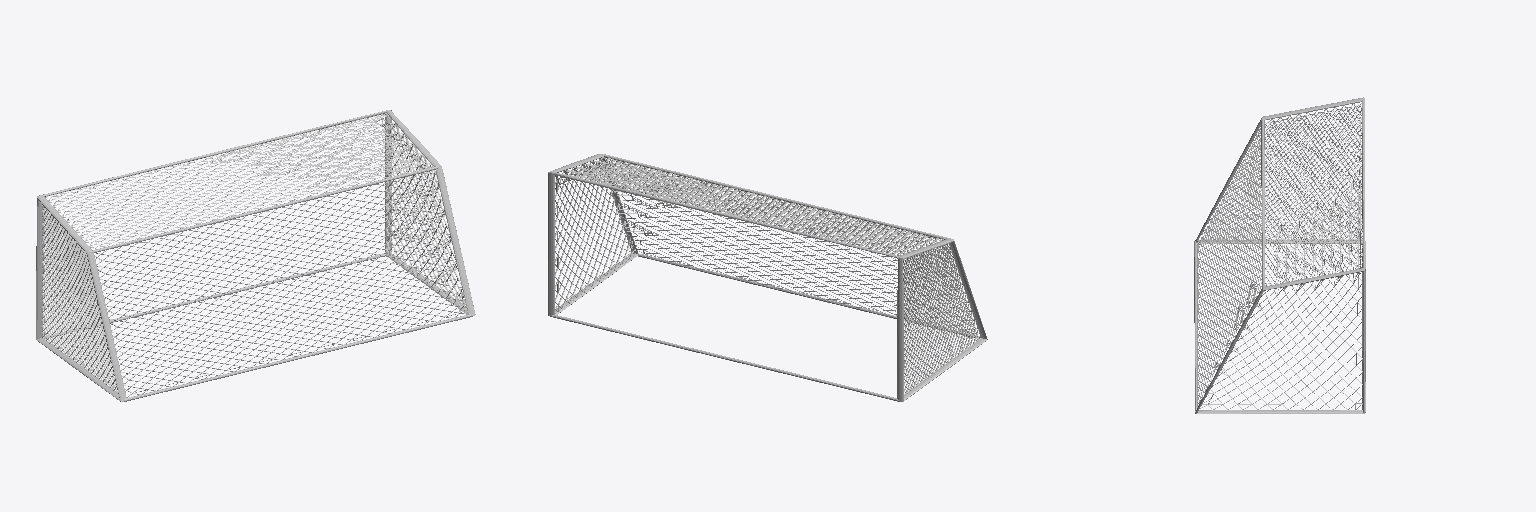
Rendered from GoalPost.obj.
3 views of the same model, side by side, from view 1: azimuth 30°, elevation 25°; view 2: azimuth 150°, elevation 25°; view 3: azimuth 270°, elevation 25° (orthographic).
Visible parts, largest first — view 1: Cube.002; view 2: Cube.002; view 3: Cube.002.
Boxes of the visible parts, x1=… form: Cube.002: x1=36, y1=110, x2=475, y2=401; Cube.002: x1=548, y1=154, x2=987, y2=401; Cube.002: x1=1194, y1=97, x2=1365, y2=413.
Bounding box in the file's own units: 27.11 × 10.59 × 11.33.